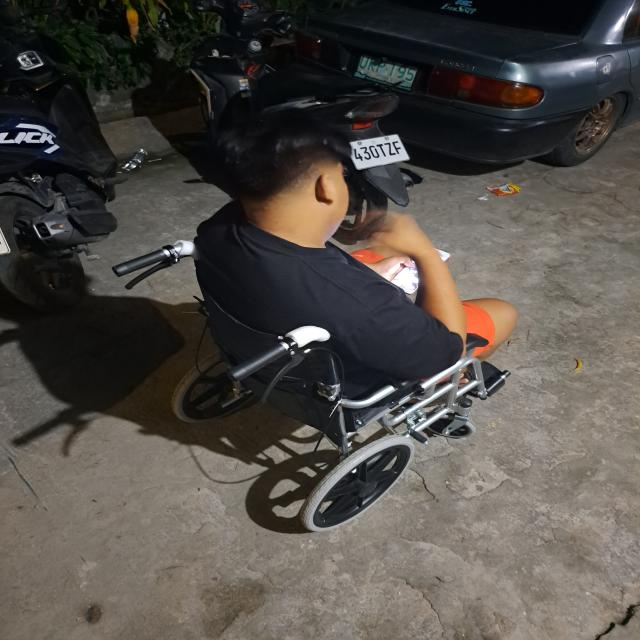wheelchairs: (106, 234, 518, 546)
